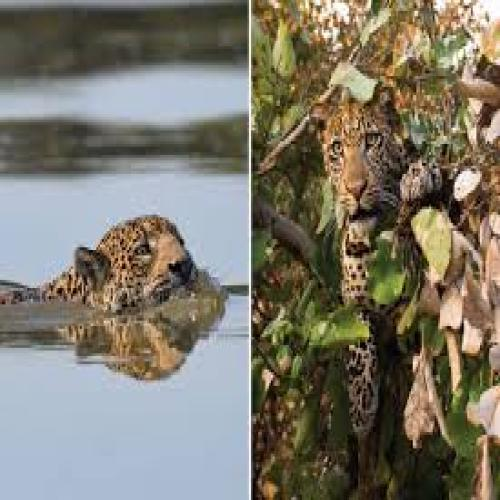jaguar_not-endangered: (307, 86, 442, 434), (52, 214, 197, 307)
